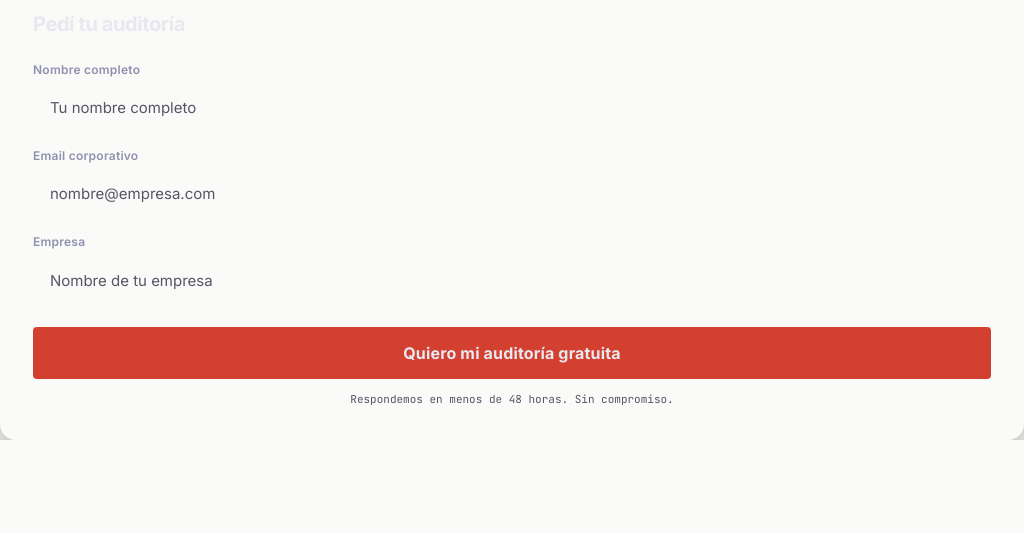
Test: AuditoriaForm › shows validation errors on empty submit
This screenshot has width=1024, height=533.
Click the button "Quiero mi auditoría gratuita".
click(512, 353)  # box [33,327,991,379]
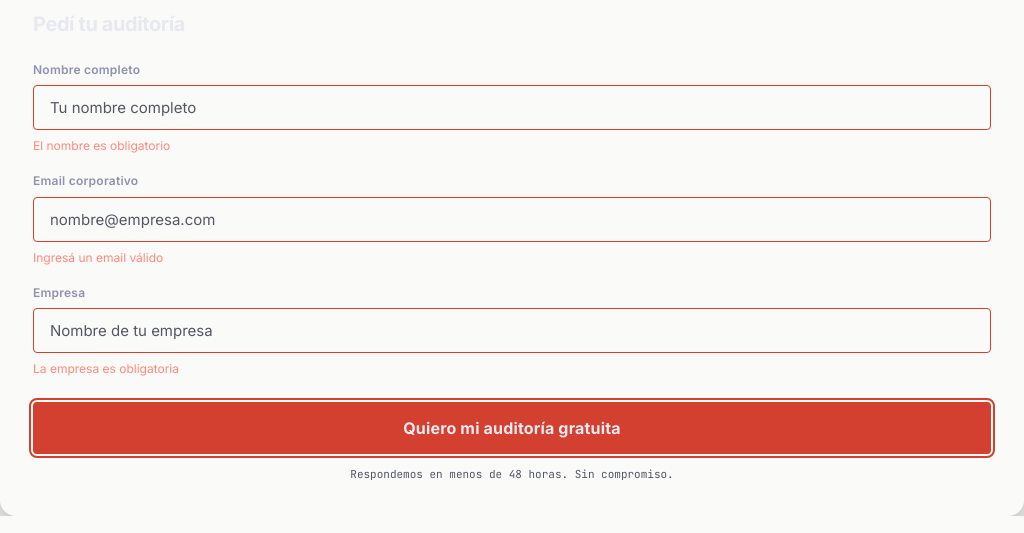
Check: the text "El nombre es obligatorio" is shown, box [33,138,170,153]
Check: the text "Ingresá un email válido" is shown, box [33,250,163,265]
Check: the text "La empresa es obligatoria" is shown, box [33,361,179,376]
